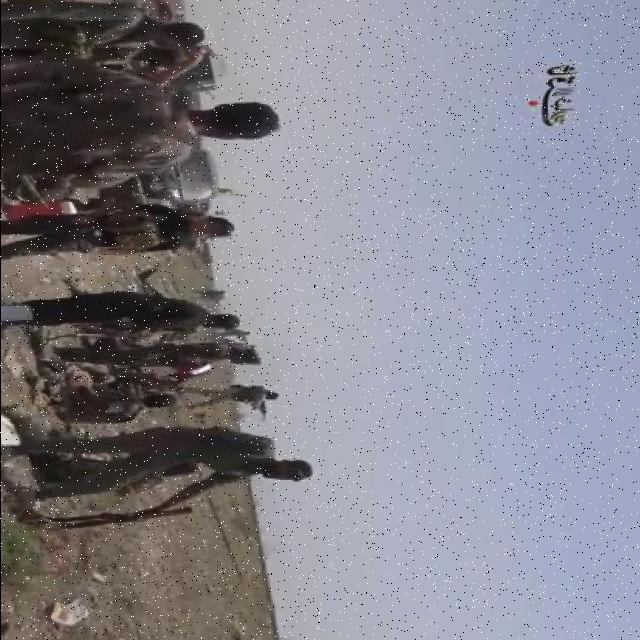Rifle: (253, 395, 266, 421)
